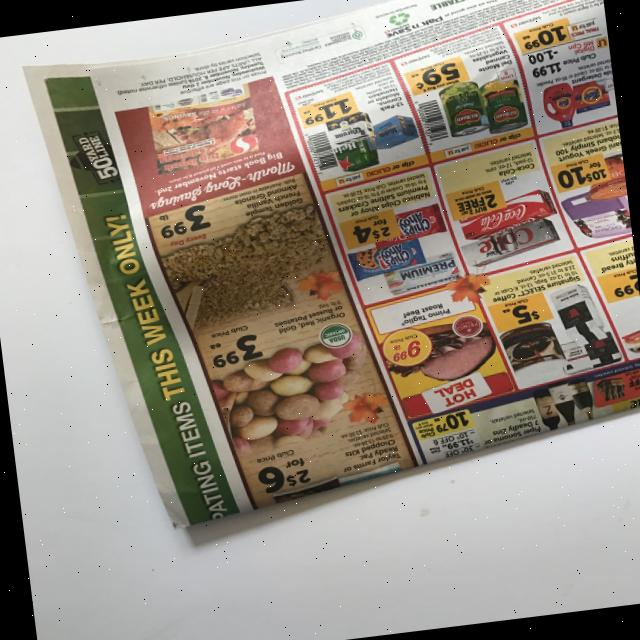paper: (17, 0, 640, 543)
